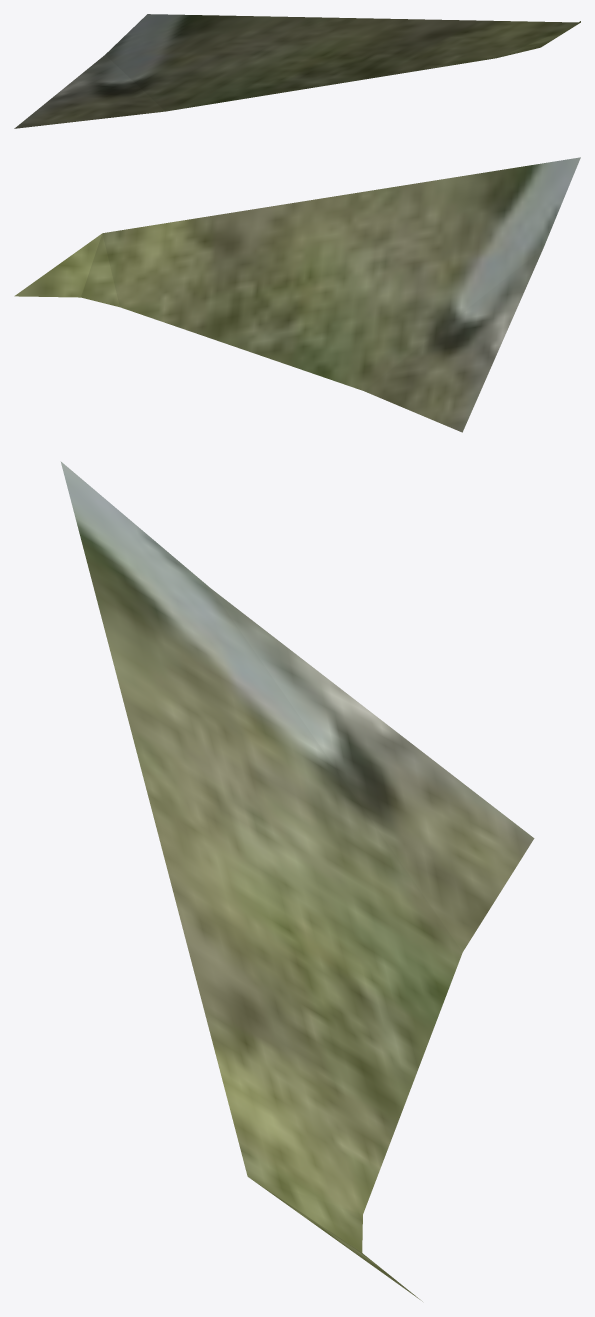
3 renders of one model, top to bottom at view 1: azimuth 30°, elevation 25°; view 2: azimuth 150°, elevation 25°; view 3: azimuth 270°, elevation 25°, orthographic. The views are drawn at different scales.
Size of the model in its own units: 3.85 by 1.46 by 1.66.
1 material, 1 textured.
